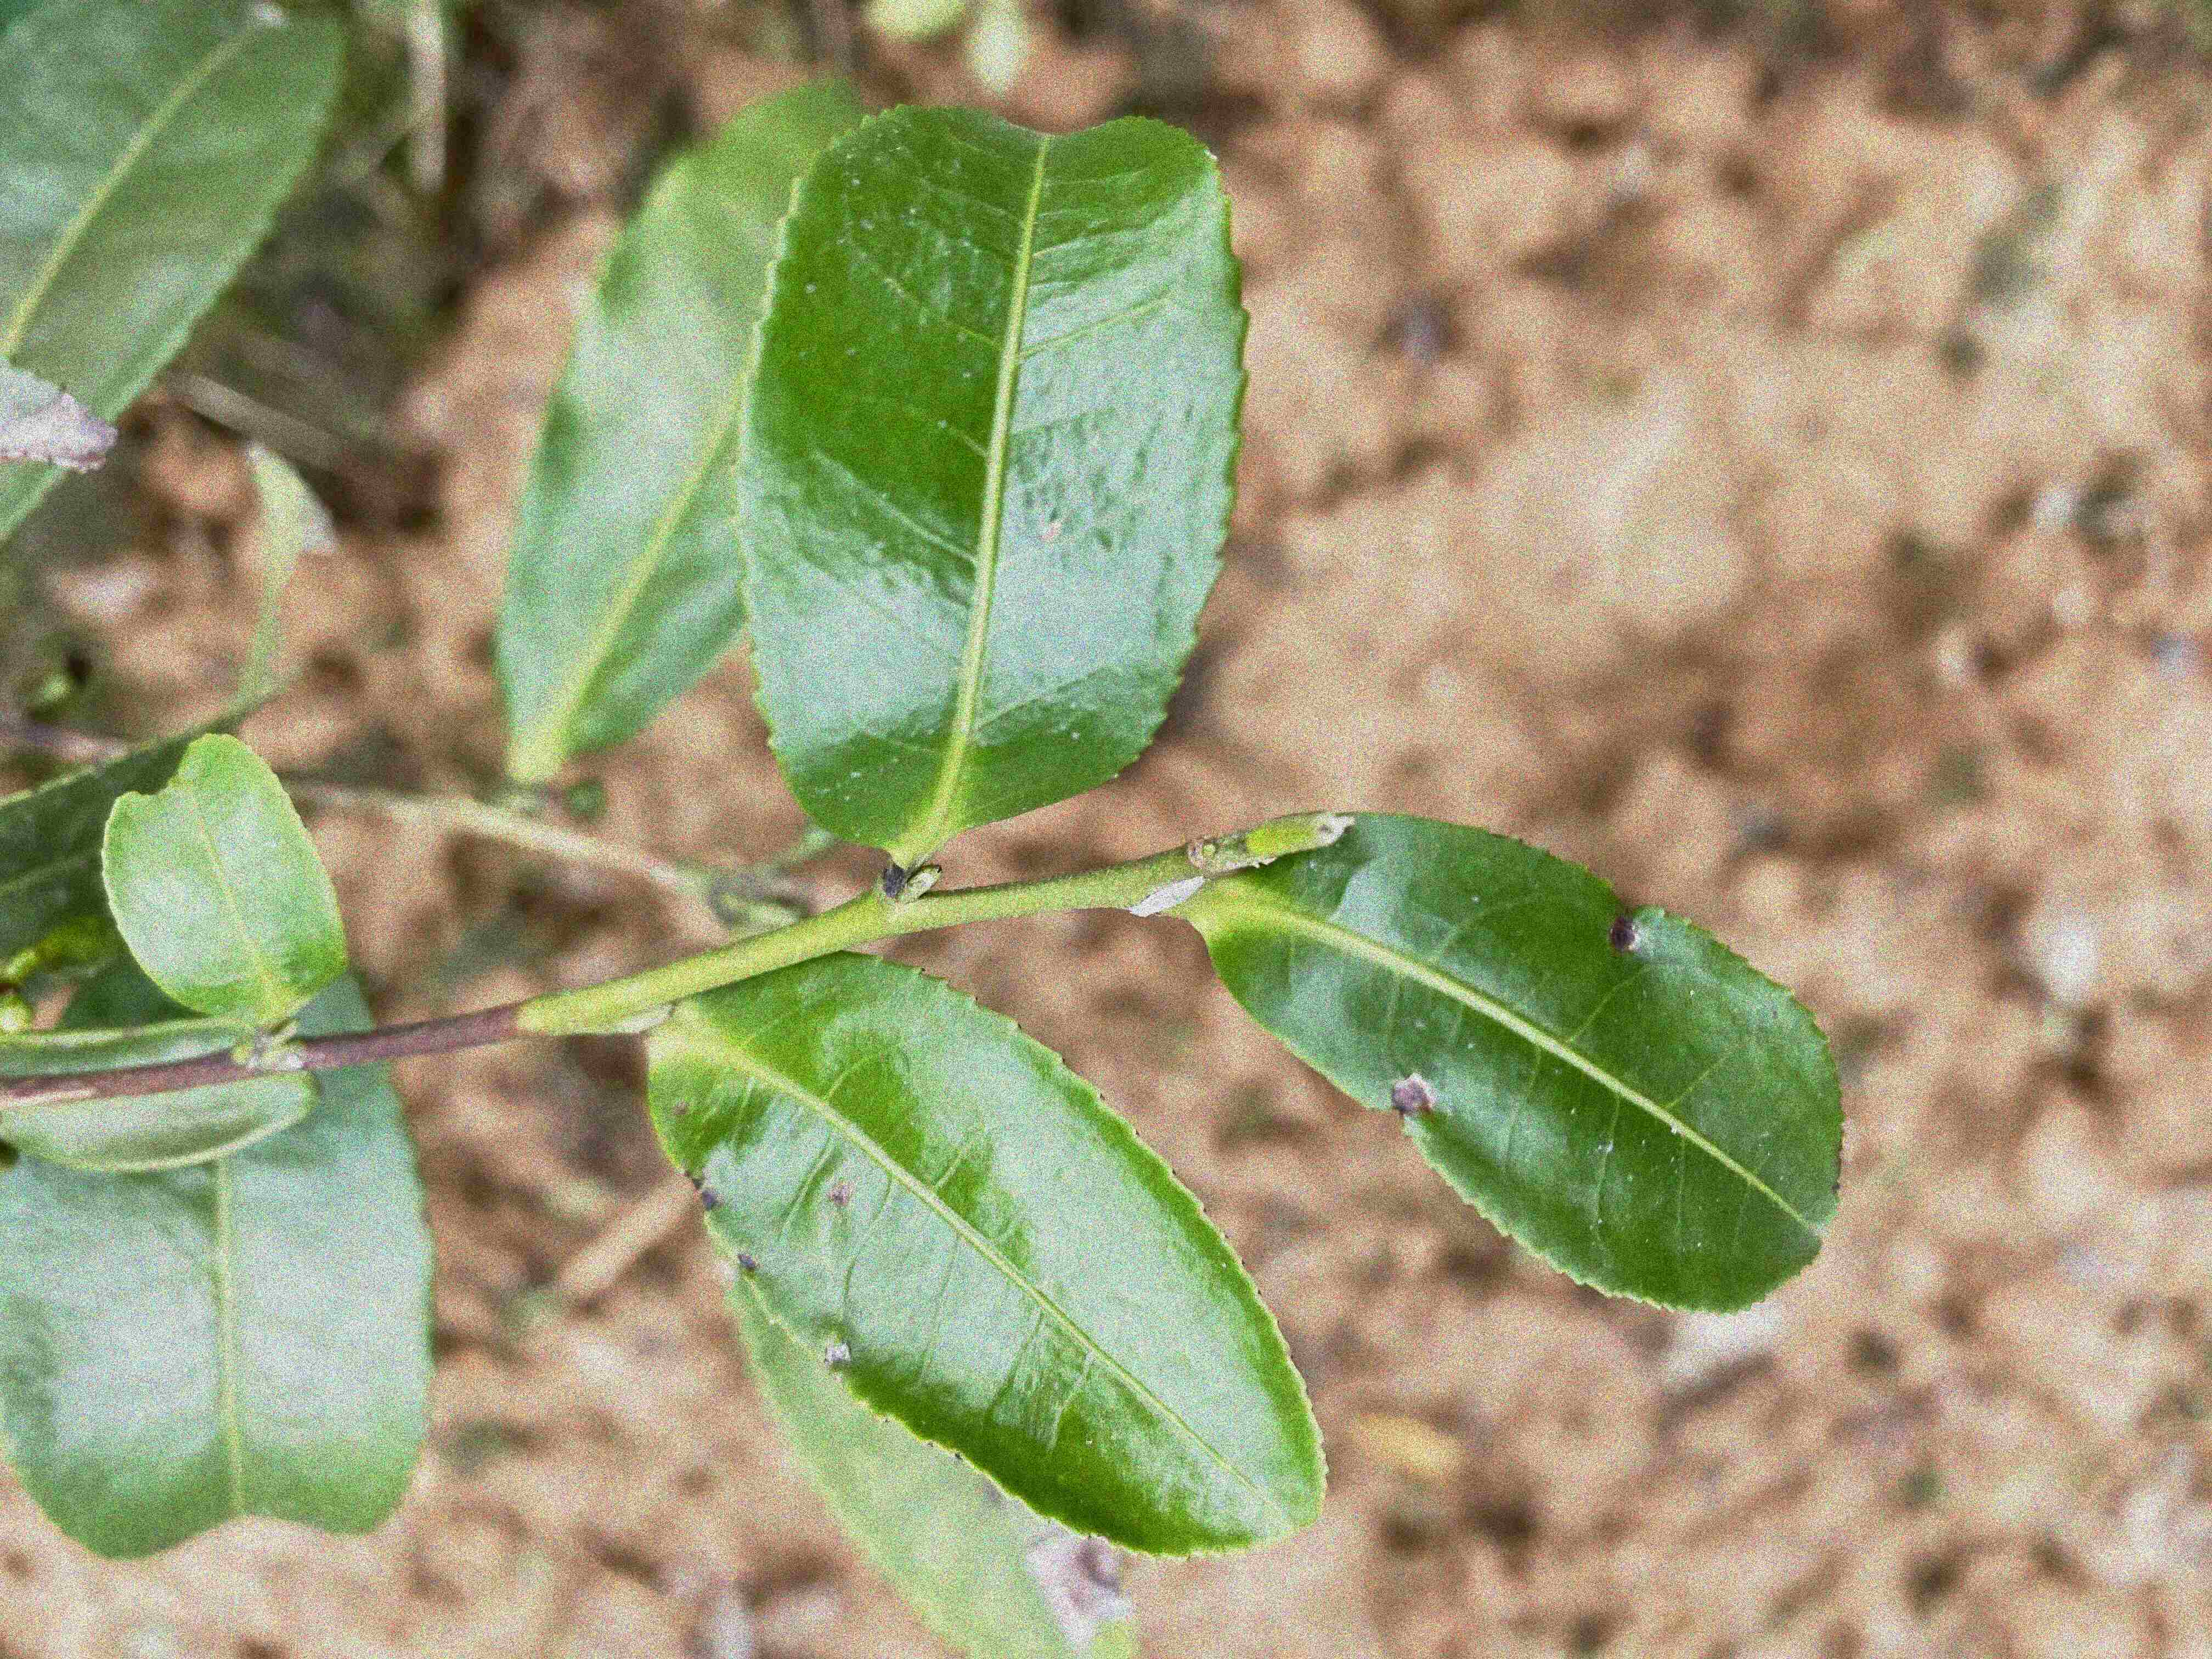chihuo_low: (103, 732, 352, 1028)
tanju_low: (644, 951, 1331, 1561), (730, 101, 1251, 861), (1197, 810, 1851, 1317)
